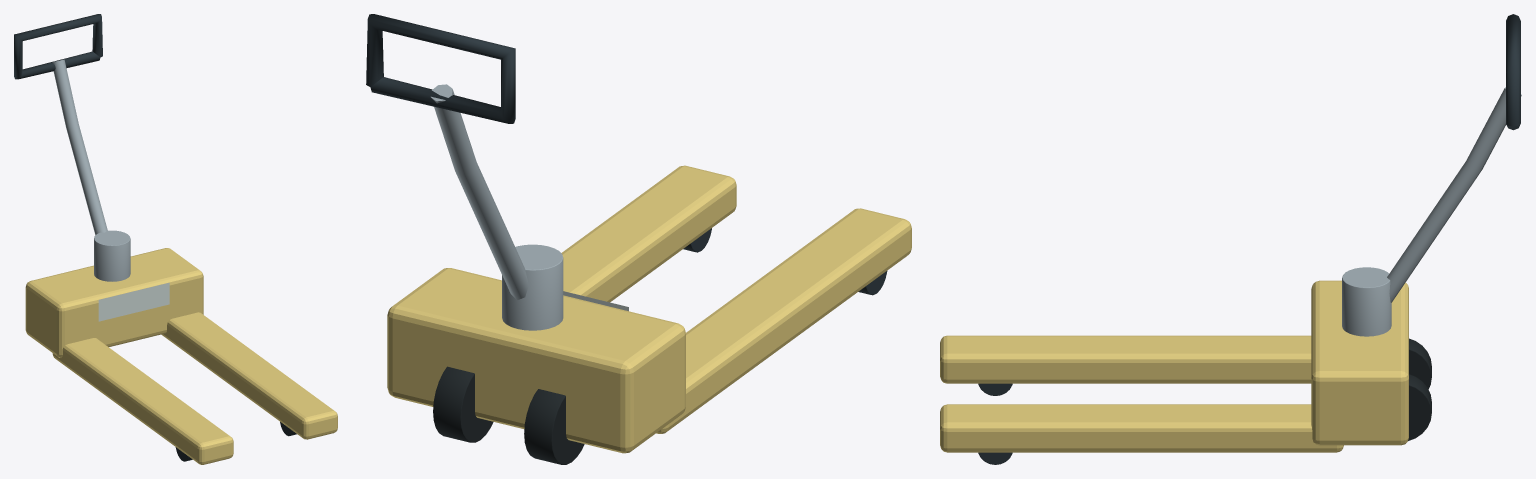
The model's file is OD_PalletTruck.fbx.
3 views of the same model, side by side, from view 1: azimuth 30°, elevation 25°; view 2: azimuth 150°, elevation 25°; view 3: azimuth 270°, elevation 25° (orthographic). The views are drawn at different scales.
Parts seen in each view (by area): view 1: OD_PalletTruck; view 2: OD_PalletTruck; view 3: OD_PalletTruck.
Boxes of the visible parts, left/top/right/bottom form: OD_PalletTruck: left=14, top=14, right=337, bottom=464; OD_PalletTruck: left=366, top=14, right=911, bottom=464; OD_PalletTruck: left=940, top=14, right=1521, bottom=464.
Size of the model in its own units: 70 by 128 by 179.
